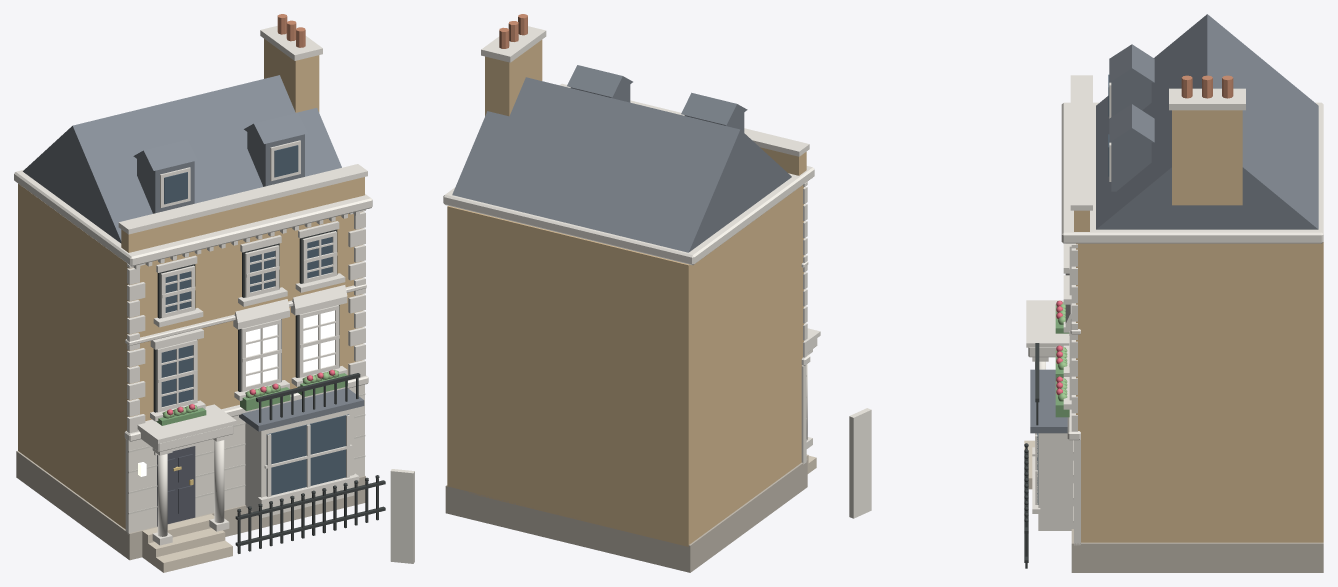
Rendered from terrace-a-3.glb.
3 views of the same model, side by side, from view 1: azimuth 30°, elevation 25°; view 2: azimuth 150°, elevation 25°; view 3: azimuth 270°, elevation 25° (orthographic). The views are drawn at different scales.
Parts seen in each view (by area): view 1: terrace-a-3; view 2: terrace-a-3; view 3: terrace-a-3.
Boxes of the visible parts, x1,y1,x2,y2 form: terrace-a-3: (14,14,414,572); terrace-a-3: (443,14,820,572); terrace-a-3: (849,14,1323,572).
Bounding box in the file's own units: 3.08 × 5.32 × 4.69.
